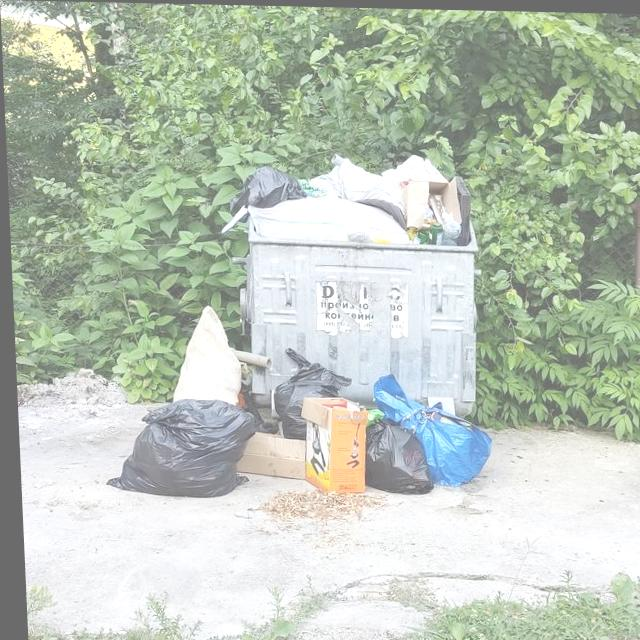Trash_Can_Full: (219, 152, 477, 418)
